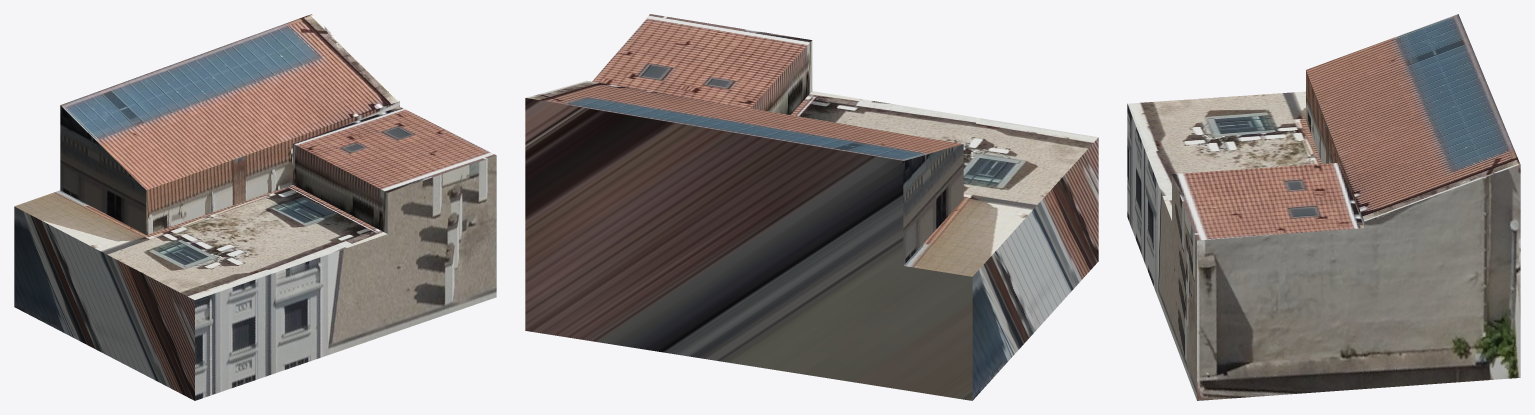
3 renders of one model, left to right at view 1: azimuth 30°, elevation 25°; view 2: azimuth 150°, elevation 25°; view 3: azimuth 270°, elevation 25°, orthographic. The views are drawn at different scales.
Parts seen in each view (by area): view 1: Z_UP; view 2: Z_UP; view 3: Z_UP.
Part boxes in pixels (box(x1,y1,x2,y2)): Z_UP: box(14, 14, 496, 400); Z_UP: box(525, 14, 1098, 400); Z_UP: box(1127, 14, 1520, 400).
Size of the model in its own units: 22.74 by 11.03 by 18.41.
Materials: 2 (1 with a texture image).
